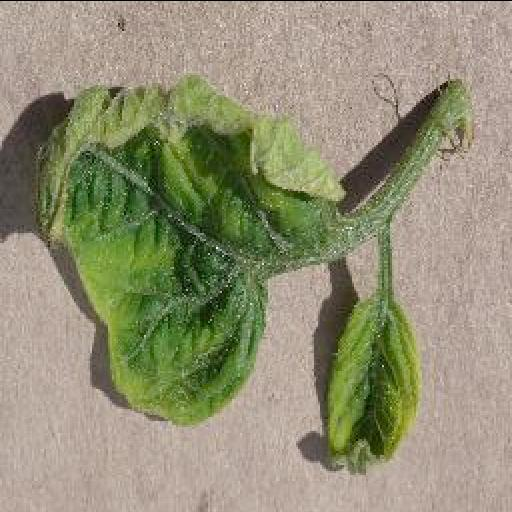disease_tomato: (28, 70, 344, 424), (318, 288, 428, 478)
